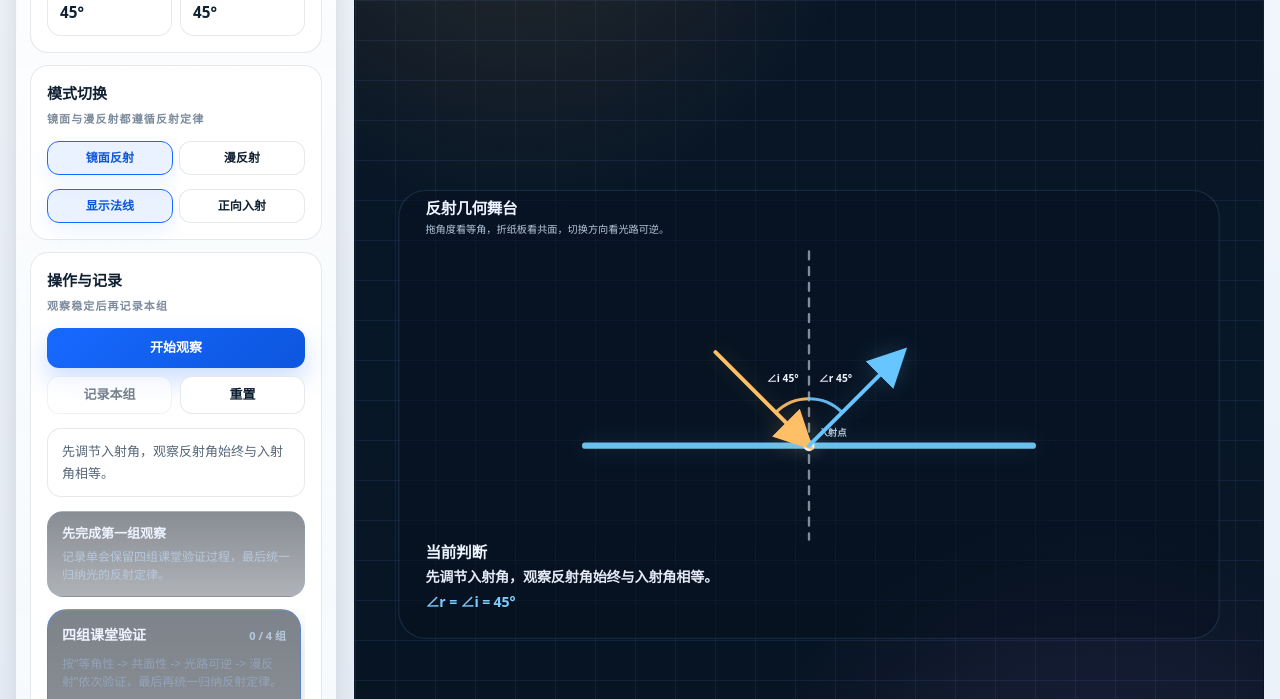
LightReflectionLab › records the current step and advances to the next preset
(page scrolled)
Click the button "开始观察" at (176, 348), box [47,328,305,368]
Wait 1000 ms
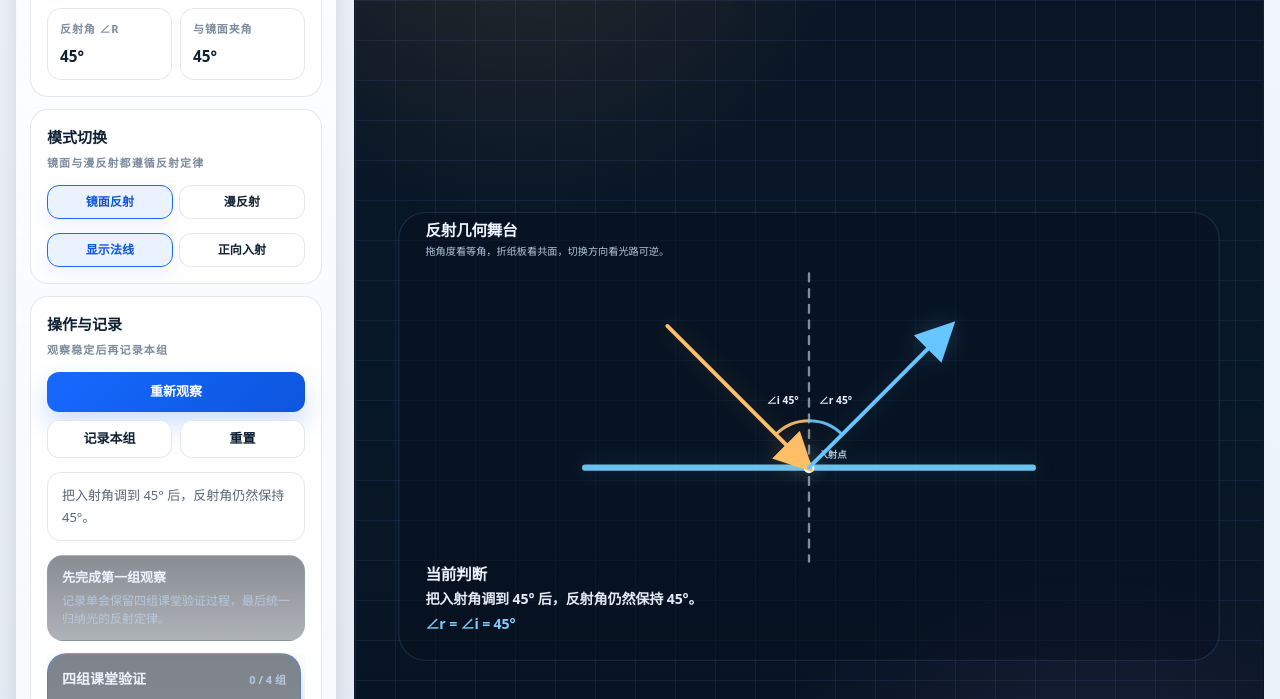
Click the button "记录本组" at (110, 439), box [47,420,172,458]
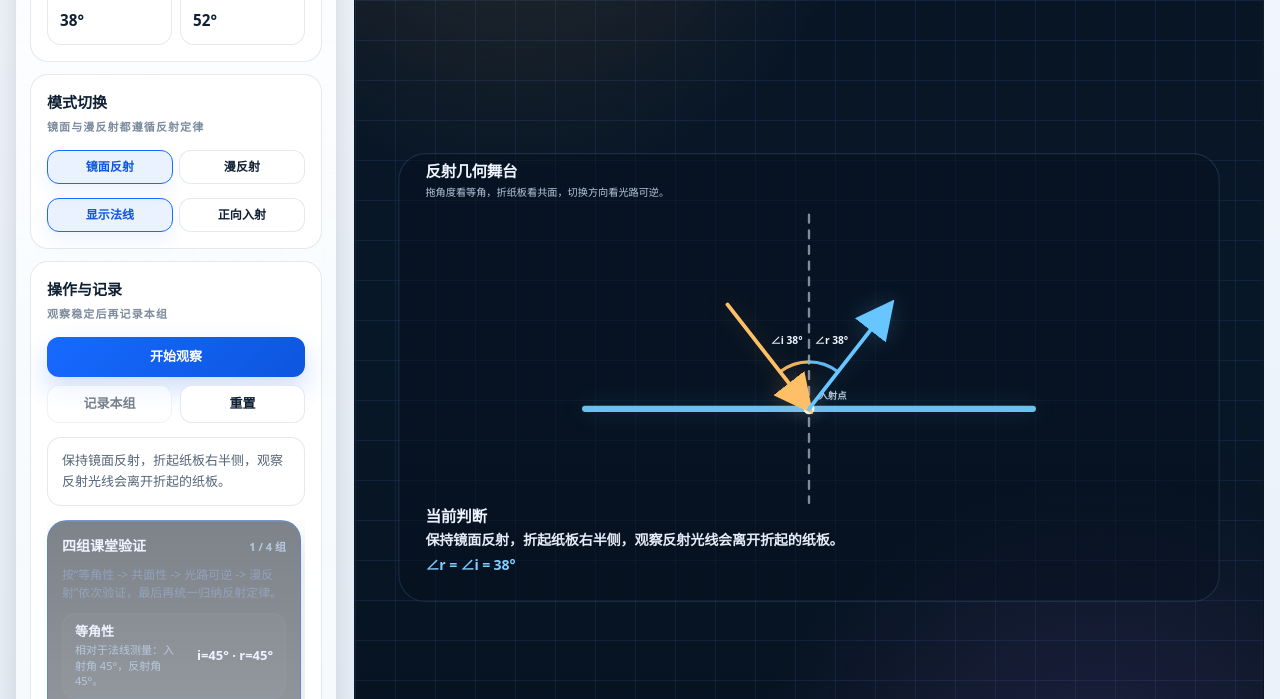
Check: the text "1 / 4 组" is shown, box [249,538,286,555]
Check: the button "记录本组" is disabled, box [47,385,172,423]
